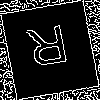R: (25, 25, 73, 76)
